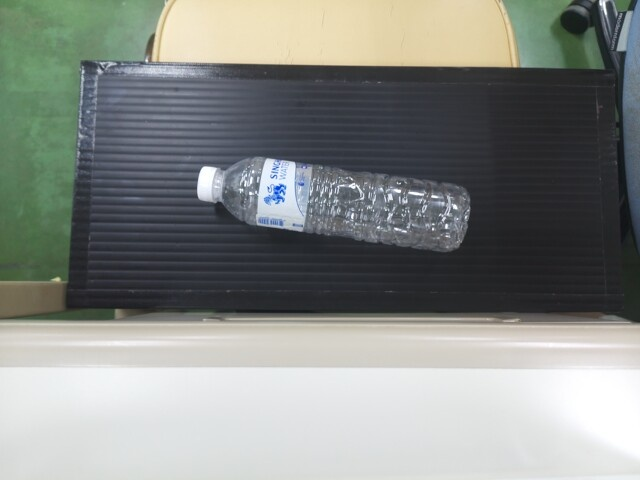plastic_bottle: (193, 151, 470, 256)
